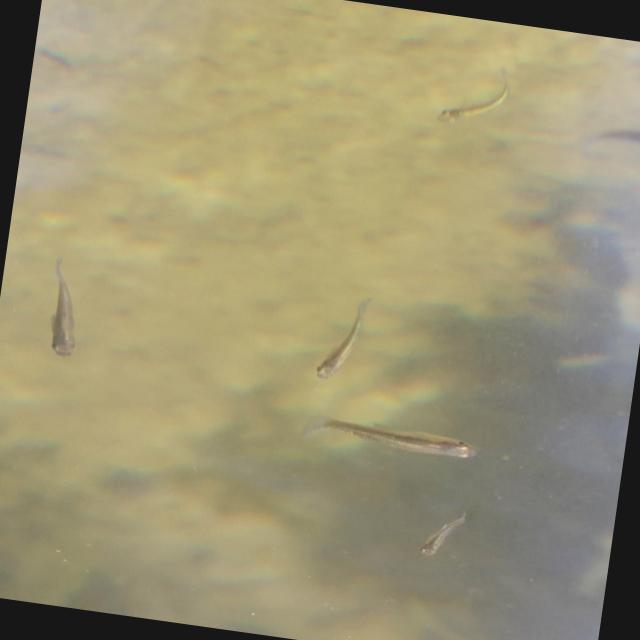Sivrisinek Baligi: (304, 410, 482, 464), (435, 55, 519, 145), (306, 289, 382, 387), (32, 256, 92, 364), (418, 506, 473, 565)
